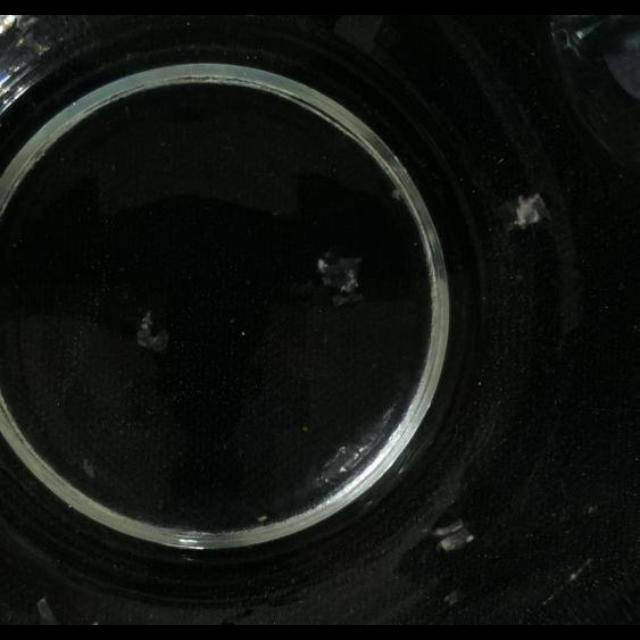Fibre: (316, 252, 362, 300), (433, 518, 475, 552), (136, 312, 170, 352), (222, 604, 260, 622), (36, 598, 59, 624), (82, 458, 96, 478), (390, 185, 404, 201), (586, 504, 598, 514)
microbeads: (510, 194, 548, 228), (563, 556, 595, 586), (444, 589, 462, 607), (569, 570, 579, 582), (256, 514, 268, 522), (338, 463, 348, 472)
